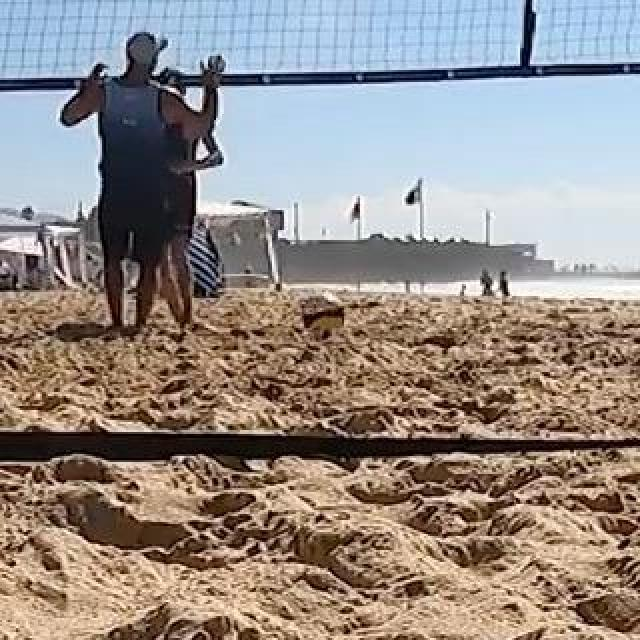volleyball: (303, 293, 345, 337)
